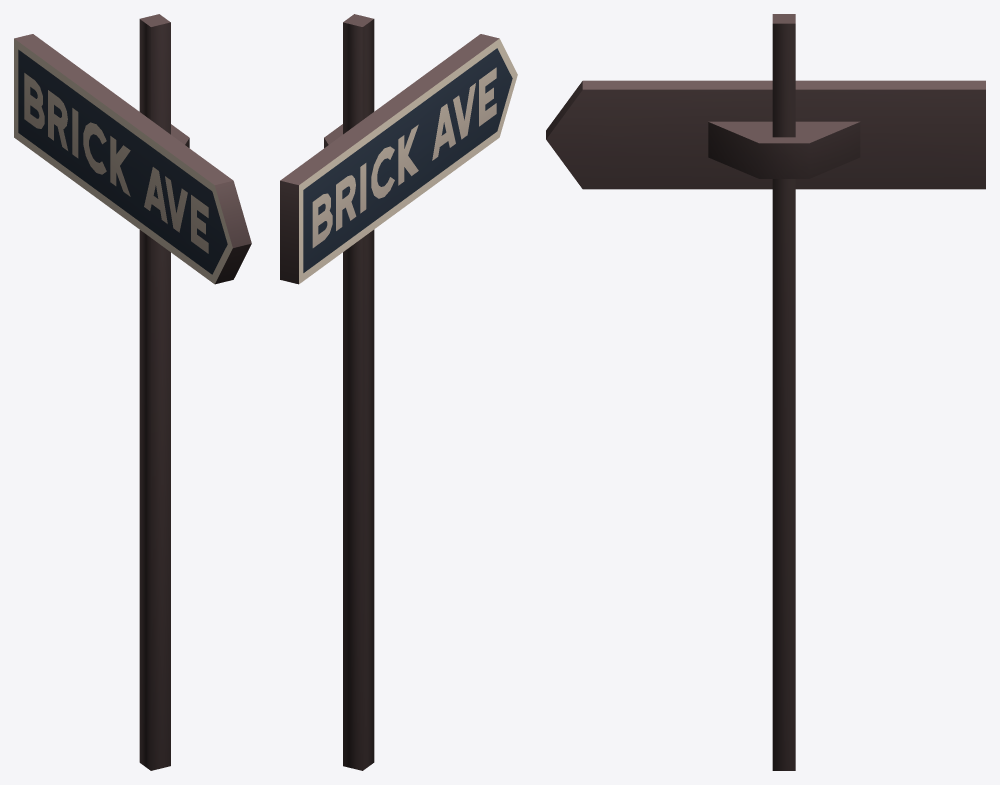
The model's file is TSP_Streetsign_11A.fbx.
3 renders of one model, left to right at view 1: azimuth 30°, elevation 25°; view 2: azimuth 150°, elevation 25°; view 3: azimuth 270°, elevation 25°, orthographic.
Visible parts, largest first — view 1: TSP_Streetsign_11A; view 2: TSP_Streetsign_11A; view 3: TSP_Streetsign_11A.
Boxes of the visible parts, <box> form: TSP_Streetsign_11A: <box>14,14,251,770</box>; TSP_Streetsign_11A: <box>280,14,517,770</box>; TSP_Streetsign_11A: <box>546,14,985,770</box>.
Size of the model in its own units: 0.2033 by 2.25 by 1.2.
